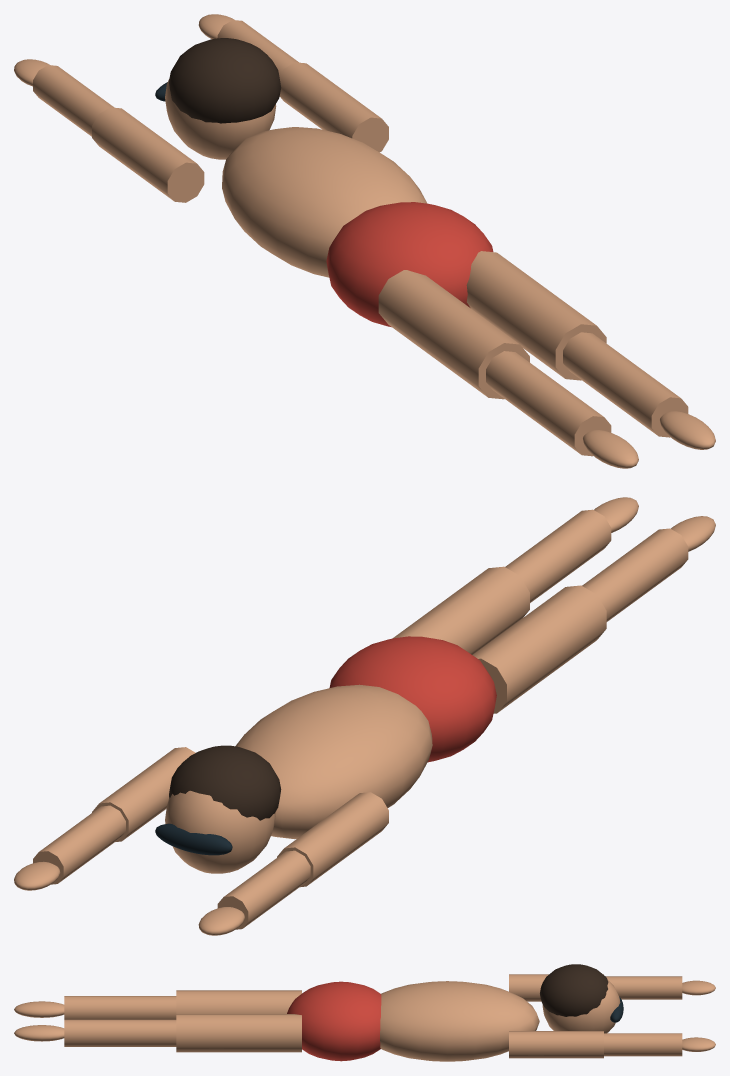
File: swimmer.glb
3 views of the same model, one above another, from view 1: azimuth 30°, elevation 25°; view 2: azimuth 150°, elevation 25°; view 3: azimuth 270°, elevation 25° (orthographic). The views are drawn at different scales.
Parts seen in each view (by area): view 1: ThighAssembly (×2), TorsoAssembly, UpperArmAssembly (×2), Trunks, Hair, Foot (×2); view 2: TorsoAssembly, ThighAssembly (×2), UpperArmAssembly (×2), Trunks, Hair, Hand (×2), Foot (×2), Goggles; view 3: ThighAssembly (×2), TorsoAssembly, UpperArmAssembly (×2), Trunks, Hair, Foot (×2), Hand (×2), Goggles.
Boxes of the visible parts, box(x1,y1,x2,y2) form: ThighAssembly (×2): box(378, 251, 688, 456); TorsoAssembly: box(165, 79, 427, 277); UpperArmAssembly (×2): box(33, 20, 388, 202); Trunks: box(326, 202, 493, 327); Hair: box(169, 38, 281, 123); Foot (×2): box(583, 411, 715, 468); TorsoAssembly: box(165, 684, 432, 873); ThighAssembly (×2): box(392, 509, 688, 713); UpperArmAssembly (×2): box(33, 747, 388, 929); Trunks: box(329, 636, 496, 762); Hair: box(169, 745, 281, 820); Hand (×2): box(14, 861, 244, 935); Foot (×2): box(594, 497, 715, 551); Goggles: box(155, 823, 232, 855); ThighAssembly (×2): box(64, 990, 301, 1052); TorsoAssembly: box(380, 979, 620, 1061); UpperArmAssembly (×2): box(509, 974, 682, 1058); Trunks: box(287, 981, 381, 1061); Hair: box(540, 964, 608, 1016); Foot (×2): box(14, 1001, 64, 1041); Hand (×2): box(682, 980, 715, 1051); Goggles: box(610, 996, 623, 1022).
Bounding box in the file's own units: 0.5751 × 0.34 × 2.51.
